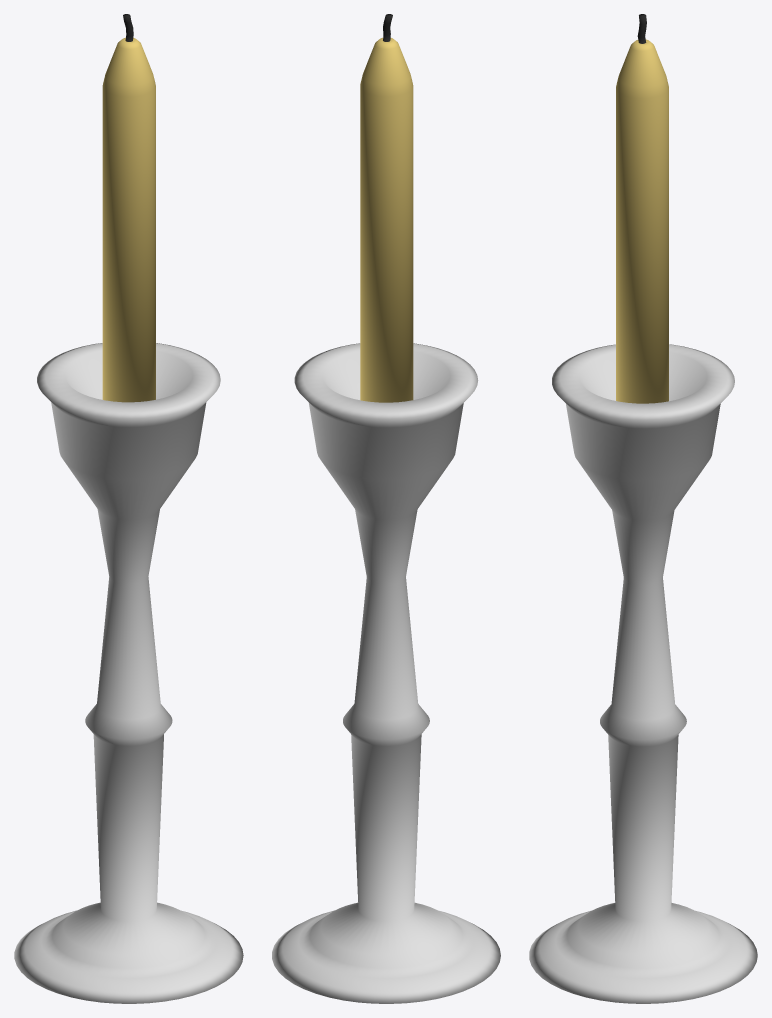
Rendered from CandleStick.fbx.
3 renders of one model, left to right at view 1: azimuth 30°, elevation 25°; view 2: azimuth 150°, elevation 25°; view 3: azimuth 270°, elevation 25°, orthographic.
Visible parts, largest first — view 1: CandleStick, Candle; view 2: CandleStick, Candle; view 3: CandleStick, Candle.
Part boxes in pixels (left/top/right/bottom): CandleStick: left=14, top=343, right=243, bottom=1003; Candle: left=102, top=14, right=155, bottom=402; CandleStick: left=272, top=343, right=500, bottom=1003; Candle: left=360, top=14, right=413, bottom=402; CandleStick: left=529, top=344, right=757, bottom=1003; Candle: left=616, top=14, right=668, bottom=403.
Bounding box in the file's own units: 44.07 × 200 × 44.04.
